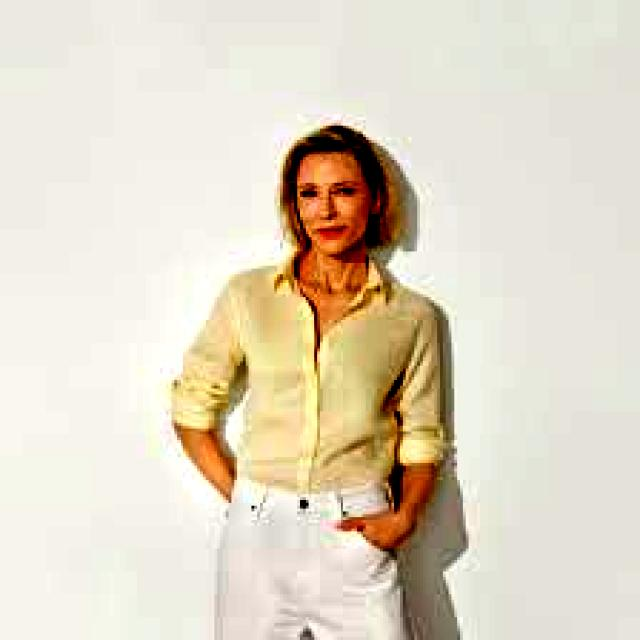face: (286, 122, 382, 257)
lower-wear: (225, 482, 425, 640)
top-wear: (167, 262, 450, 490)
